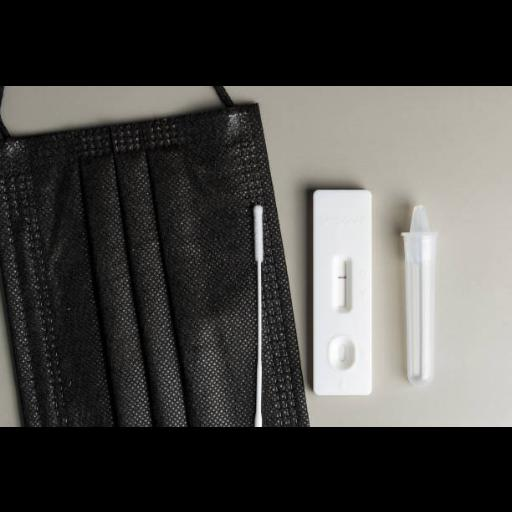Neg: (314, 190, 370, 394)
